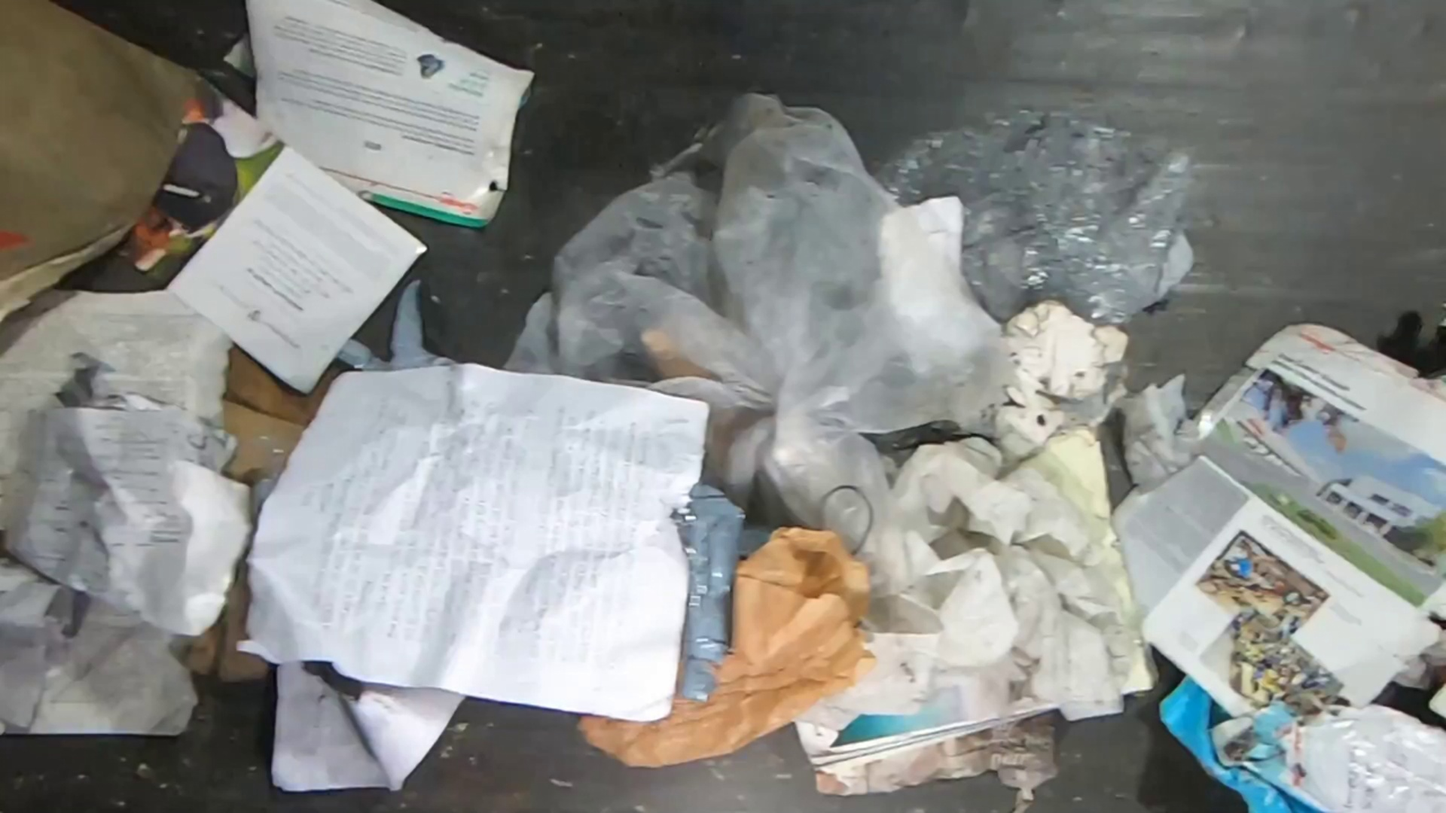cardboard: (1110, 320, 1446, 726), (219, 340, 350, 485), (178, 558, 273, 686)
plastic: (500, 91, 1025, 598), (870, 108, 1219, 328), (0, 557, 204, 737), (671, 485, 775, 702), (335, 278, 459, 371), (80, 392, 163, 412)
